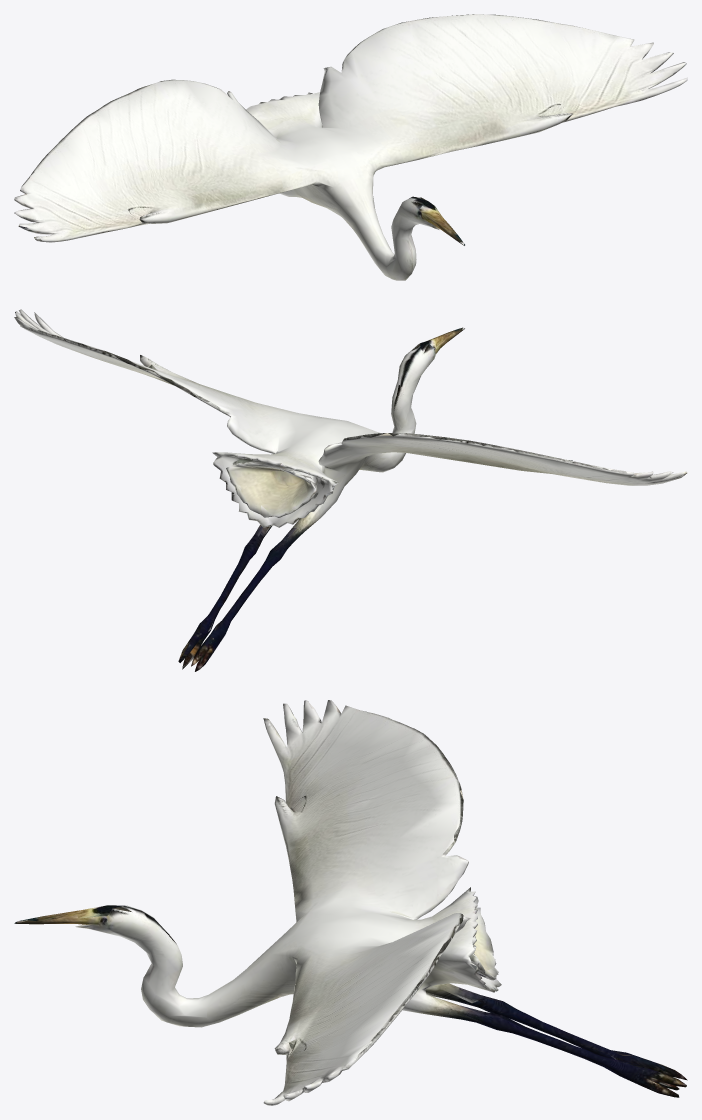
Rendered from egret.glb.
The picture shows the model from 3 angles, top to bottom: view 1: azimuth 30°, elevation 25°; view 2: azimuth 150°, elevation 25°; view 3: azimuth 270°, elevation 25°; orthographic projection. The views are drawn at different scales.
Parts seen in each view (by area): view 1: egret; view 2: egret; view 3: egret.
Part boxes in pixels (bbox=[...]): egret: bbox=[14, 14, 687, 280]; egret: bbox=[14, 309, 687, 671]; egret: bbox=[14, 700, 687, 1105].
Size of the model in its own units: 1 by 0.2886 by 0.7248.
1 material, 1 textured.
